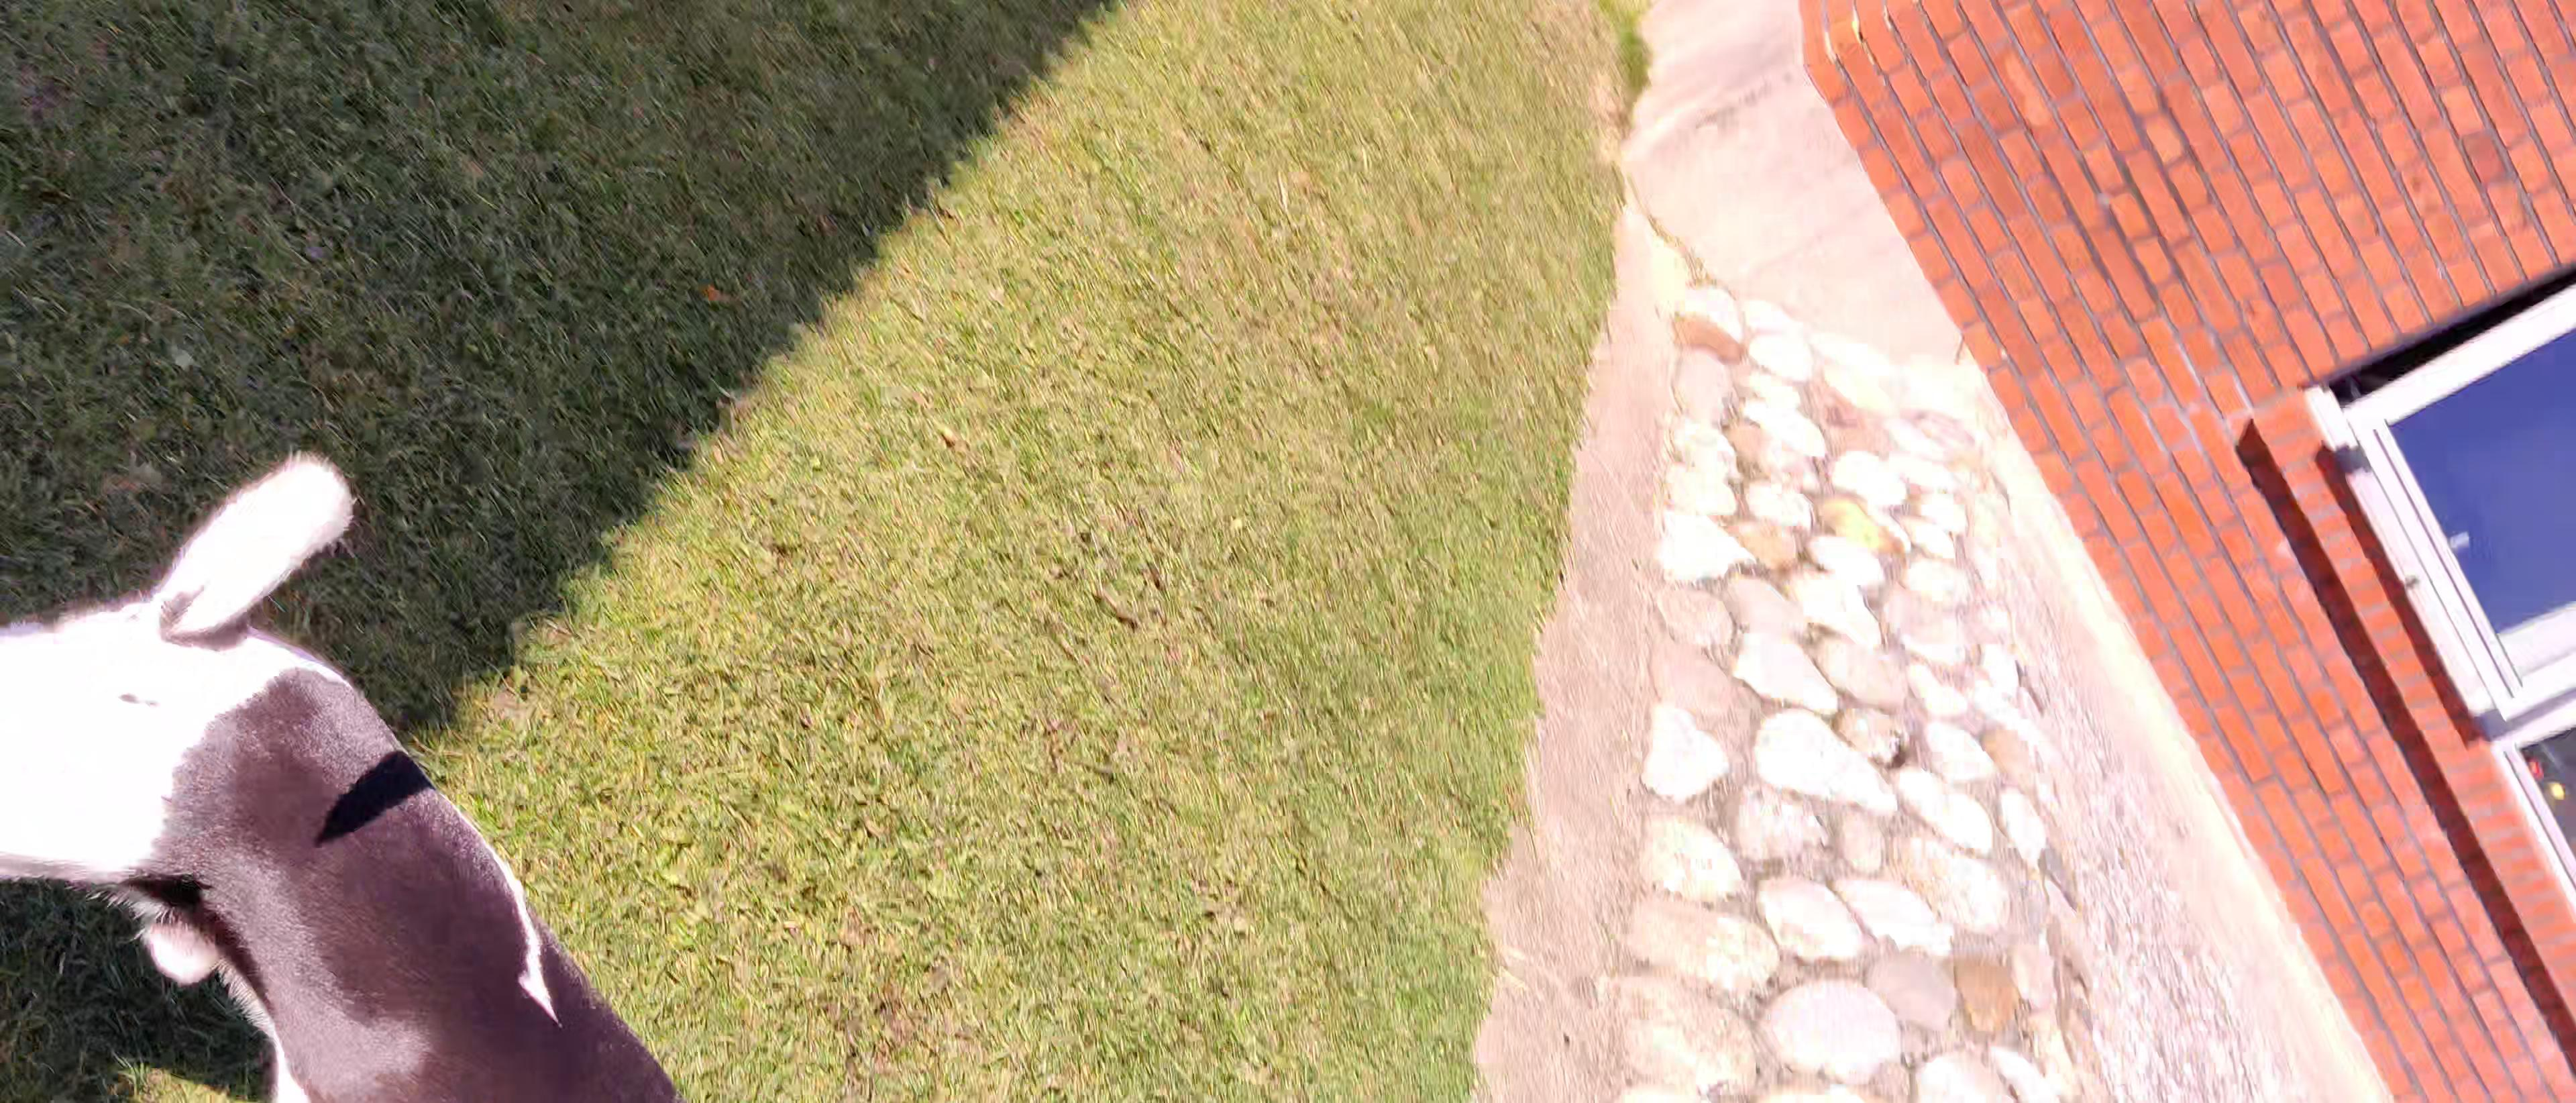Dog: (0, 449, 708, 1103)
